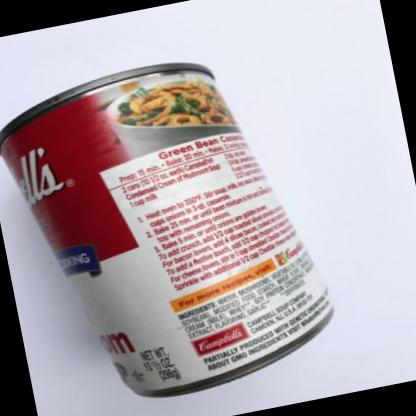Metal: (0, 62, 332, 398)
